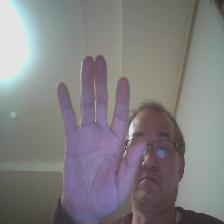hand: (55, 52, 145, 218)
